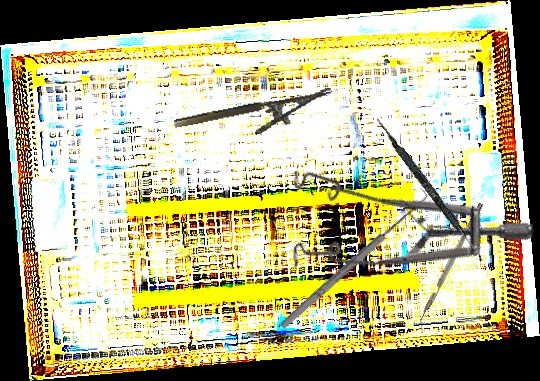Chopper: (414, 202, 489, 331)
Hook Surgical: (273, 185, 433, 332)
Needle Holder: (172, 87, 338, 150)
Spatula Surgical: (371, 117, 489, 263)
Speculum: (256, 90, 540, 334)
